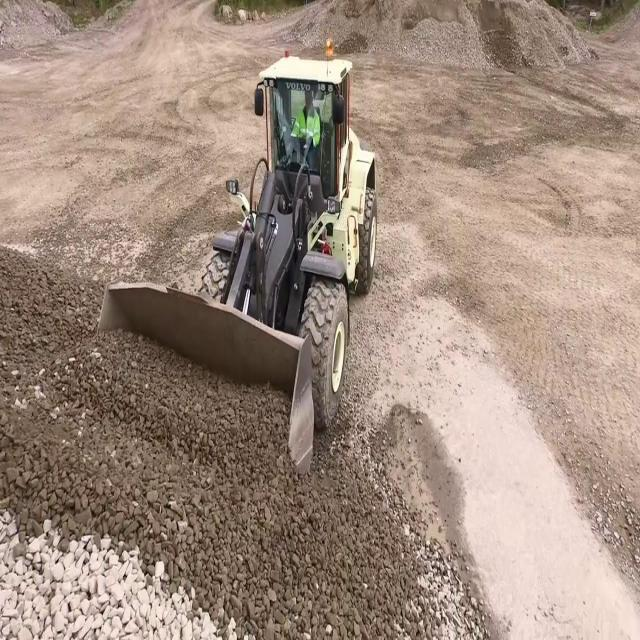bull_dozer/loader/grader: (98, 53, 377, 472)
